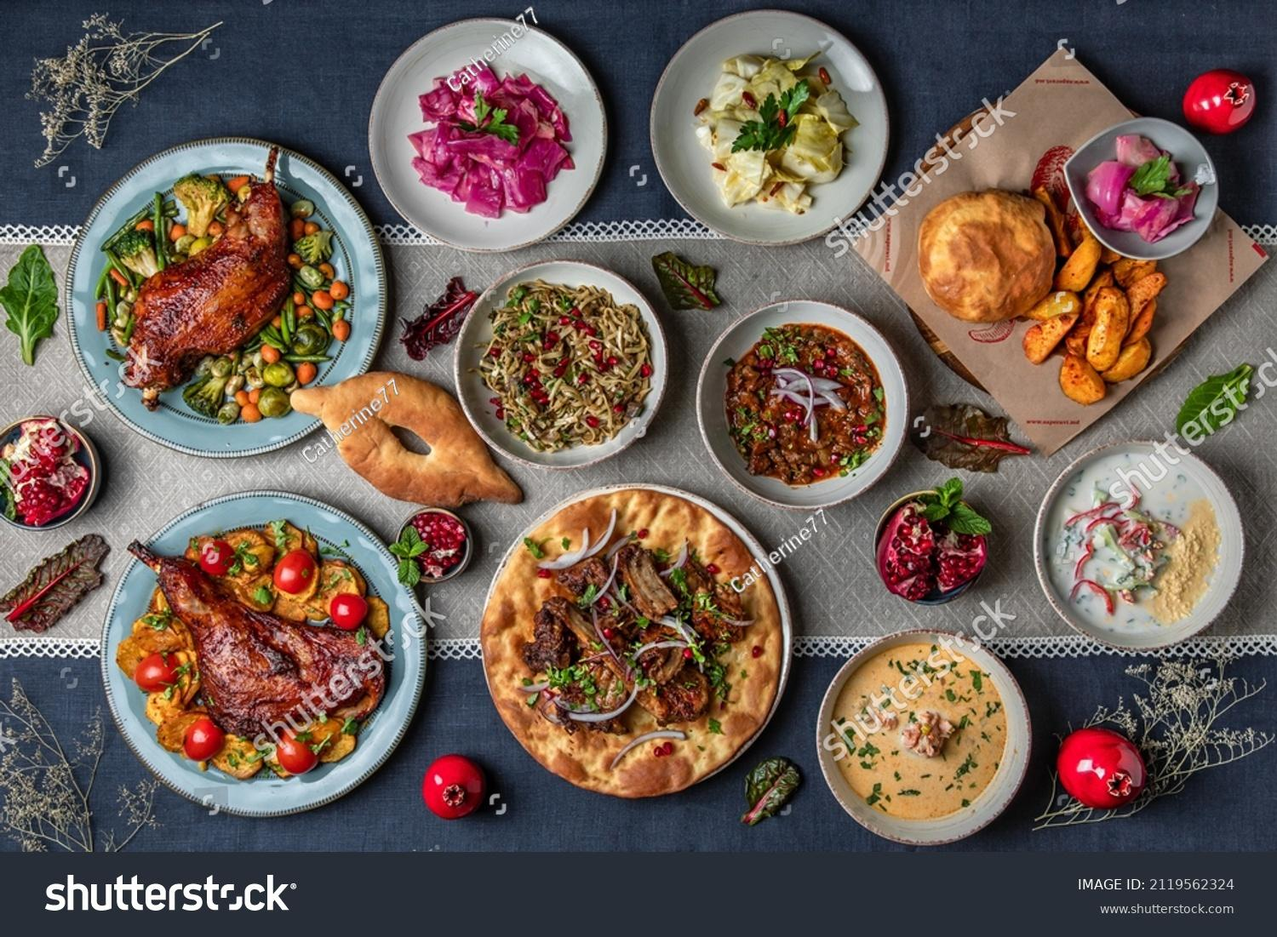Braised Crucian Carp: (867, 37, 1272, 450), (99, 491, 434, 808), (61, 136, 387, 454), (473, 486, 750, 796), (367, 15, 608, 256), (647, 9, 862, 249), (455, 260, 660, 471), (817, 635, 1028, 837), (1032, 438, 1244, 637), (706, 299, 897, 506)
